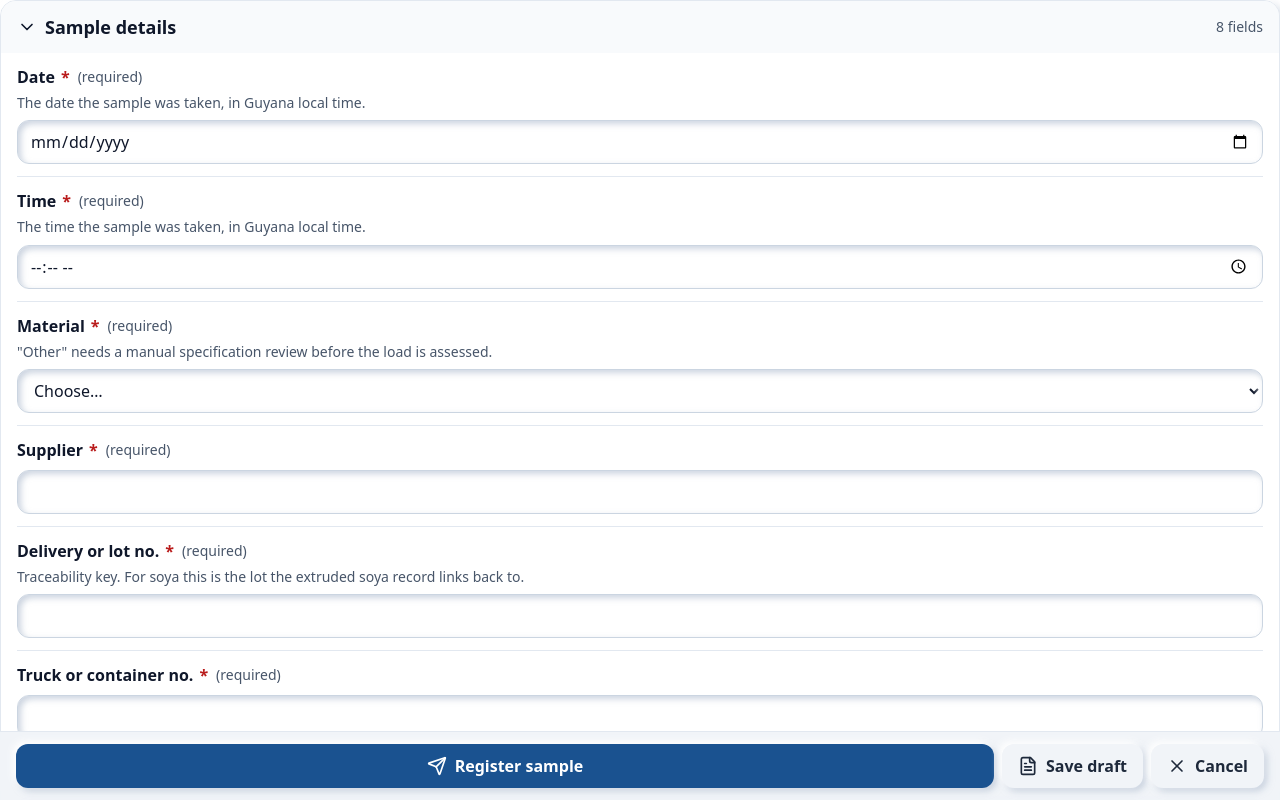
Test: StageForm — empty submission (FR-008, NFR-004) › refuses malformed text in a draft but does not demand completeness
// A draft may be incomplete (FR-005): a blank form saves.
Click the button "Save draft": (1073,766) [1002, 744, 1143, 788]
(page scrolled)
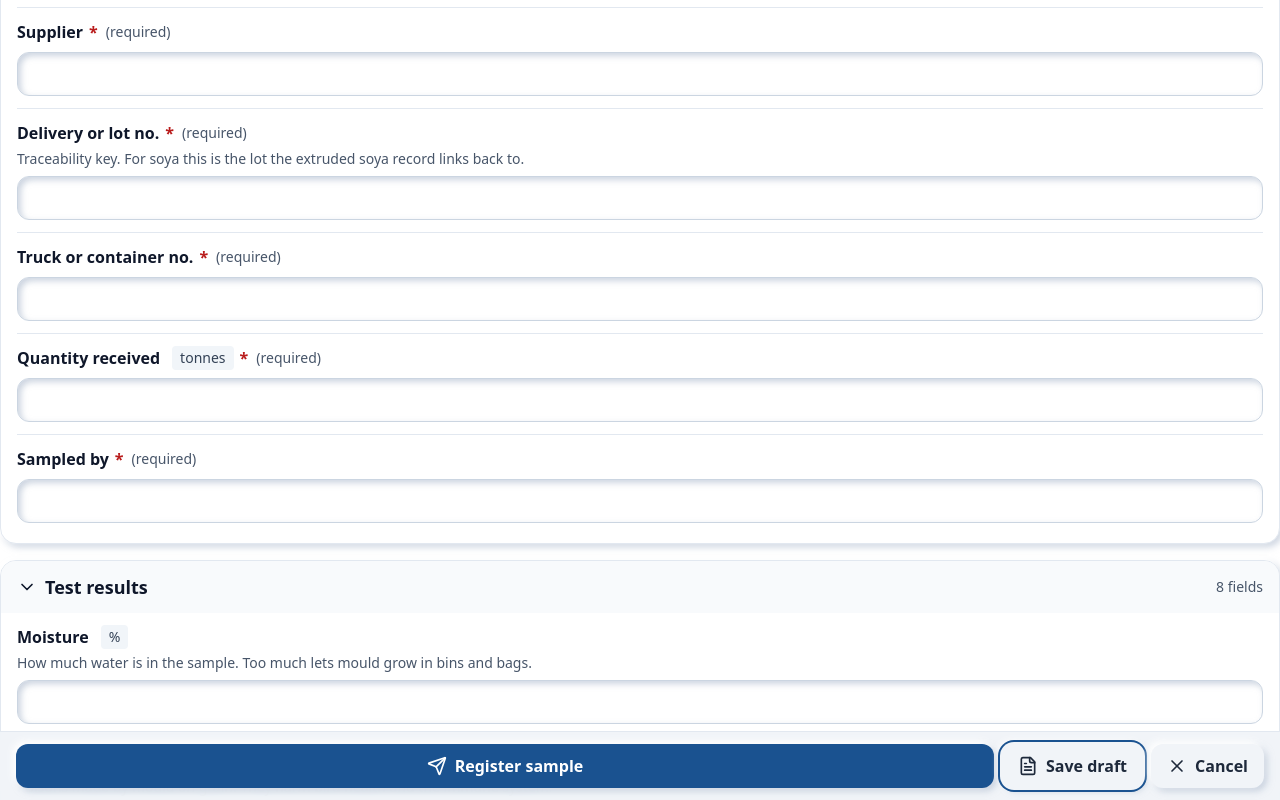
In the field labelled "Quantity received tonnes * (required)": (640,400) [17, 378, 1263, 422], type "abc"
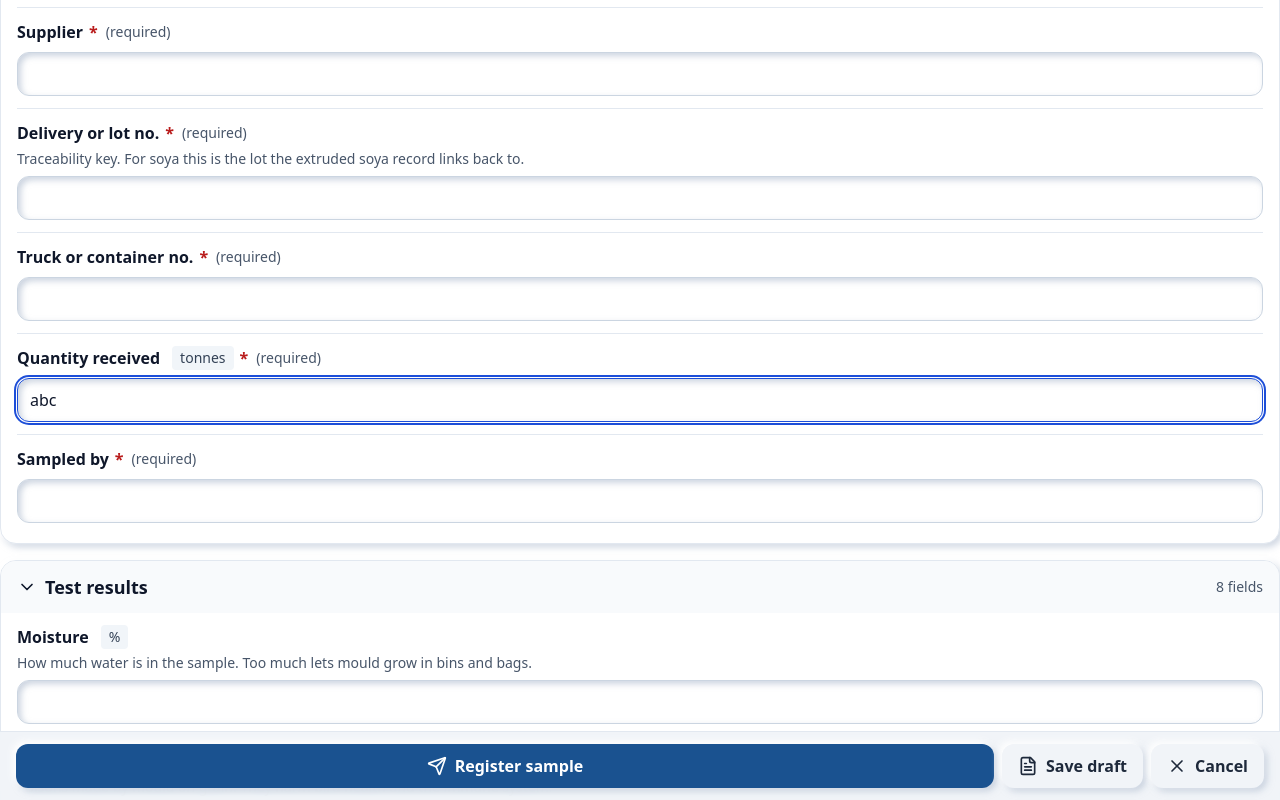
Click the button "Save draft": (1073,766) [1002, 744, 1143, 788]
(page scrolled)
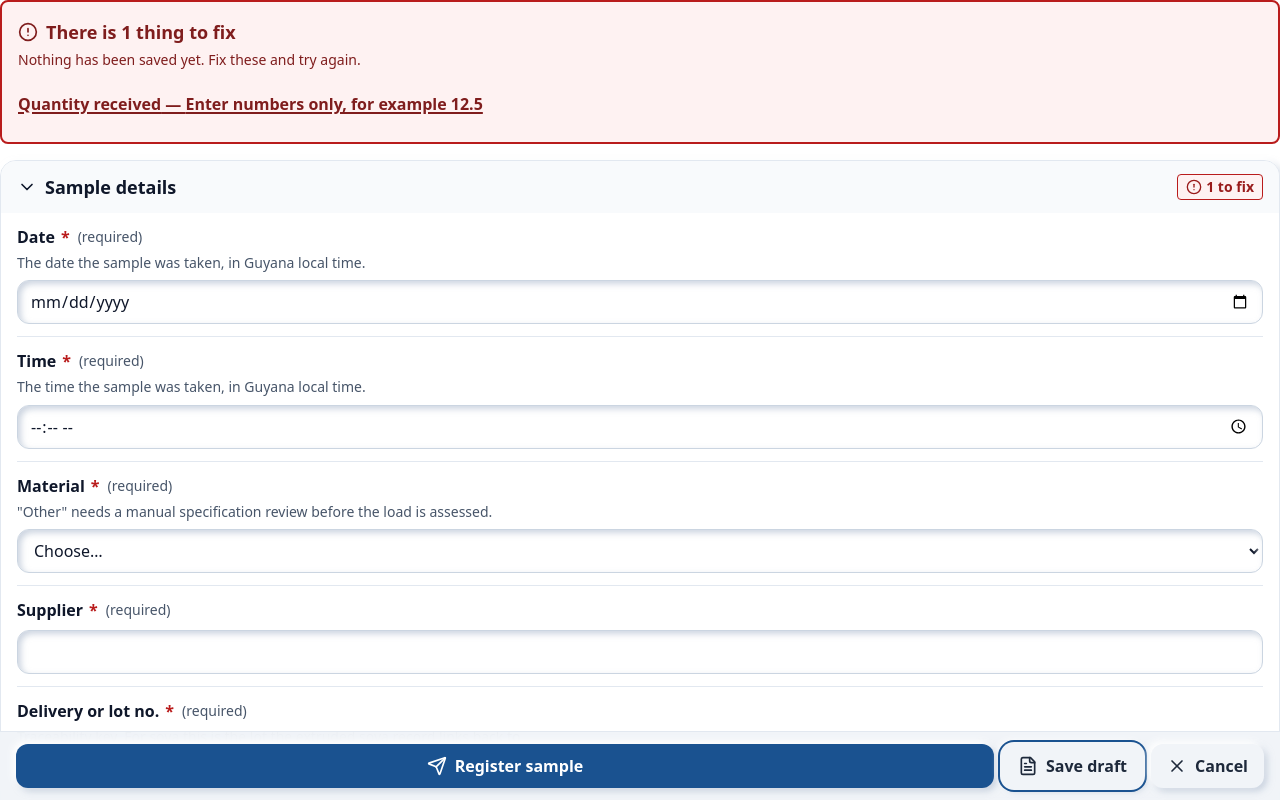
Expected: the message shows "numbers only", [18, 82, 483, 126]
